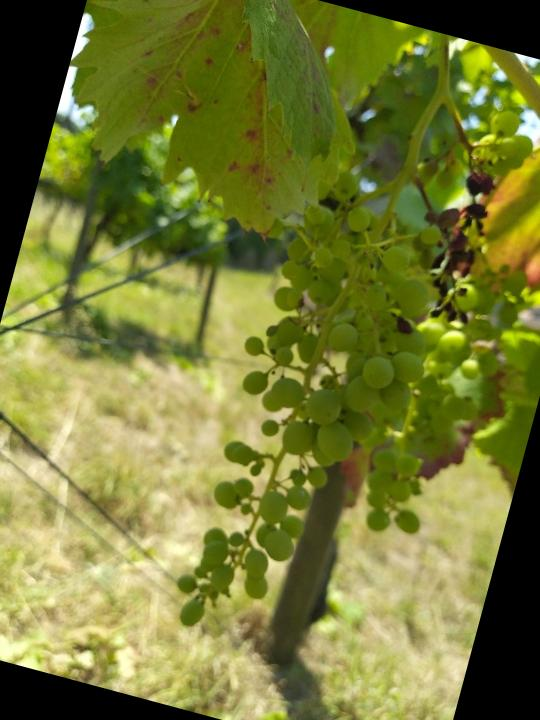grape: (161, 180, 463, 669), (392, 151, 524, 335)
